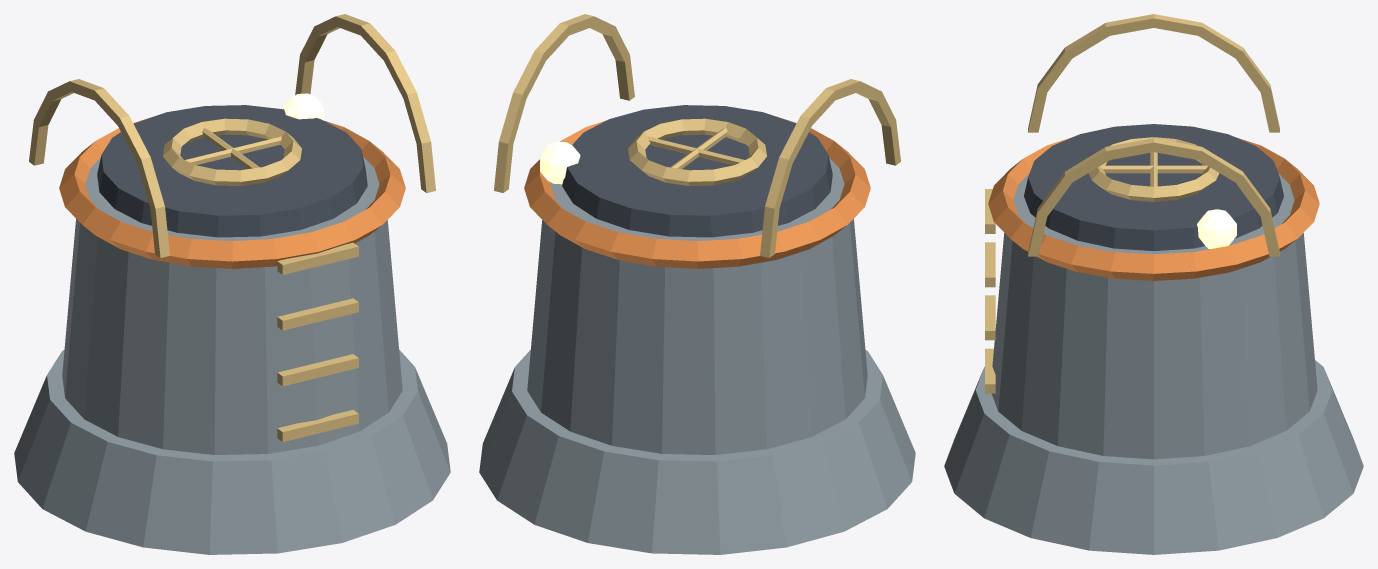
Rendered from sub_hatch_module.glb.
3 renders of one model, left to right at view 1: azimuth 30°, elevation 25°; view 2: azimuth 150°, elevation 25°; view 3: azimuth 270°, elevation 25°, orthographic. The views are drawn at different scales.
Parts seen in each view (by area): view 1: sub_hatch_module_hull, sub_hatch_module_dark, sub_hatch_module_brass, sub_hatch_module_accent, sub_hatch_module_warm; view 2: sub_hatch_module_hull, sub_hatch_module_dark, sub_hatch_module_brass, sub_hatch_module_accent, sub_hatch_module_warm; view 3: sub_hatch_module_hull, sub_hatch_module_dark, sub_hatch_module_brass, sub_hatch_module_accent, sub_hatch_module_warm.
Boxes of the visible parts, x1=… form: sub_hatch_module_hull: x1=14, y1=157, x2=450, y2=554; sub_hatch_module_dark: x1=97, y1=105, x2=367, y2=237; sub_hatch_module_brass: x1=29, y1=14, x2=435, y2=441; sub_hatch_module_accent: x1=59, y1=116, x2=405, y2=268; sub_hatch_module_warm: x1=284, y1=93, x2=324, y2=120; sub_hatch_module_hull: x1=479, y1=158, x2=915, y2=554; sub_hatch_module_dark: x1=562, y1=105, x2=832, y2=237; sub_hatch_module_brass: x1=494, y1=14, x2=900, y2=257; sub_hatch_module_accent: x1=524, y1=116, x2=870, y2=268; sub_hatch_module_warm: x1=540, y1=141, x2=580, y2=184; sub_hatch_module_hull: x1=944, y1=173, x2=1363, y2=554; sub_hatch_module_dark: x1=1024, y1=124, x2=1283, y2=251; sub_hatch_module_brass: x1=985, y1=14, x2=1279, y2=393; sub_hatch_module_accent: x1=988, y1=137, x2=1319, y2=280; sub_hatch_module_warm: x1=1197, y1=209, x2=1236, y2=248.
Bounding box in the file's own units: 2 × 2.04 × 2.
